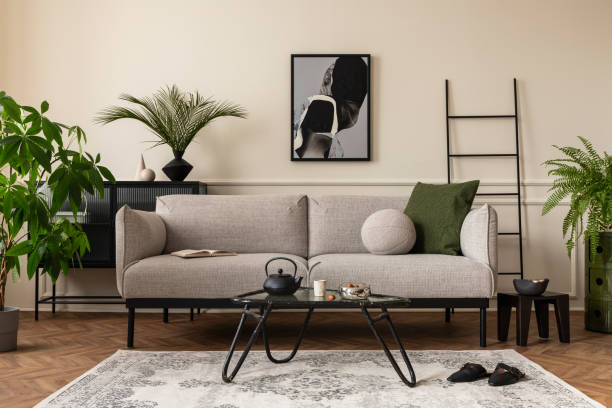large plant: (0, 86, 107, 352), (540, 138, 612, 263)
small plant: (100, 86, 247, 182)
sofa: (110, 179, 500, 348)
table: (220, 272, 420, 392), (497, 287, 572, 349)
wall art: (287, 50, 372, 163)
